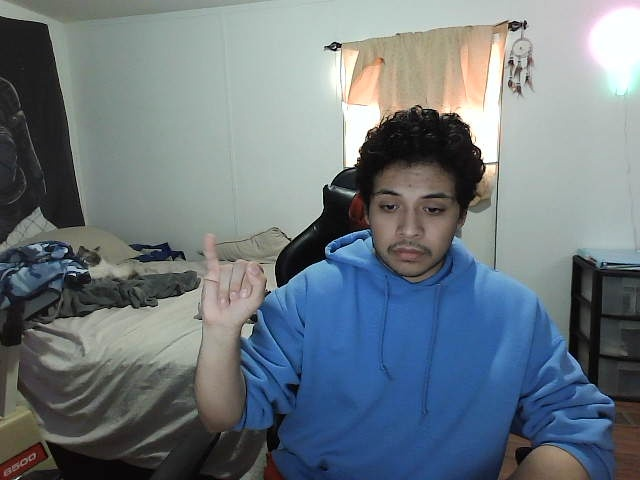I: (194, 227, 268, 333)
